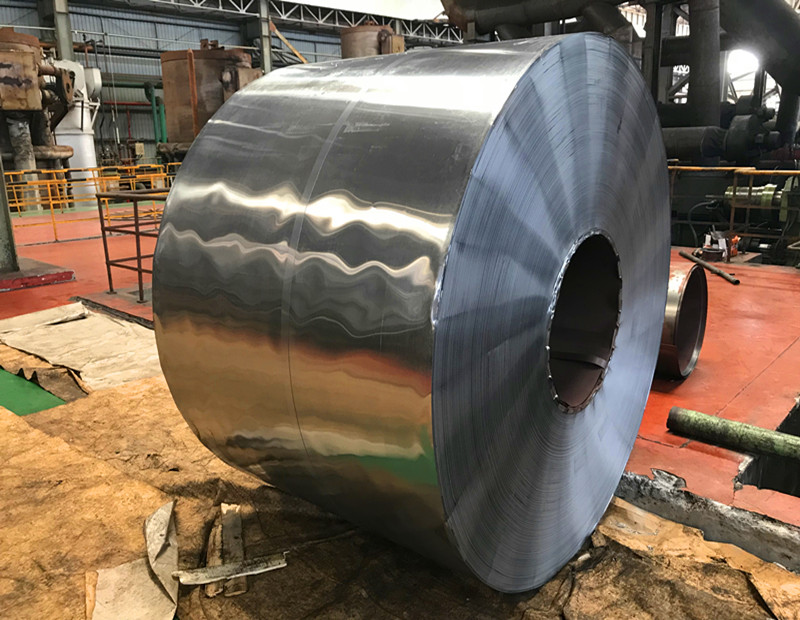steel-coil: (156, 49, 715, 534)
